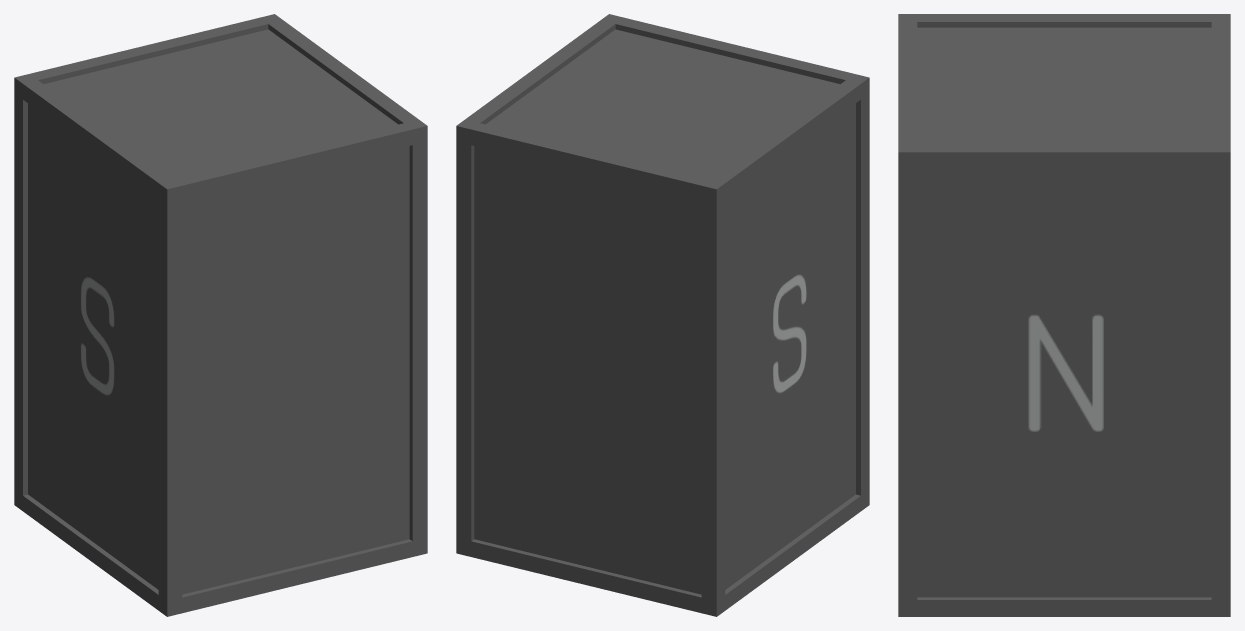
Rendered from magnetic box.fbx.
The picture shows the model from 3 angles, left to right: view 1: azimuth 30°, elevation 25°; view 2: azimuth 150°, elevation 25°; view 3: azimuth 270°, elevation 25°; orthographic projection. The views are drawn at different scales.
Visible parts, largest first — view 1: magnet_box; view 2: magnet_box; view 3: magnet_box.
Part boxes in pixels (left/top/right/bottom): magnet_box: left=14, top=14, right=427, bottom=616; magnet_box: left=456, top=14, right=869, bottom=616; magnet_box: left=898, top=14, right=1230, bottom=616.
Bounding box in the file's own units: 76.25 × 120 × 77.5.
